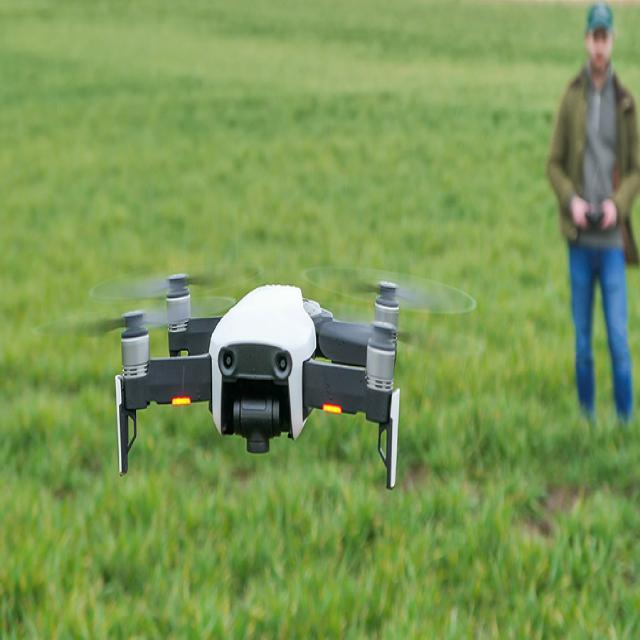drone: (70, 253, 493, 477)
